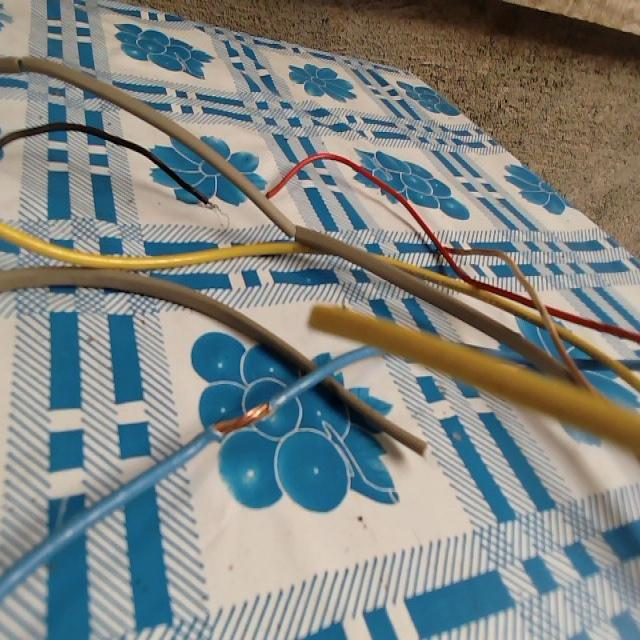-: (212, 398, 270, 434), (198, 195, 231, 225)
